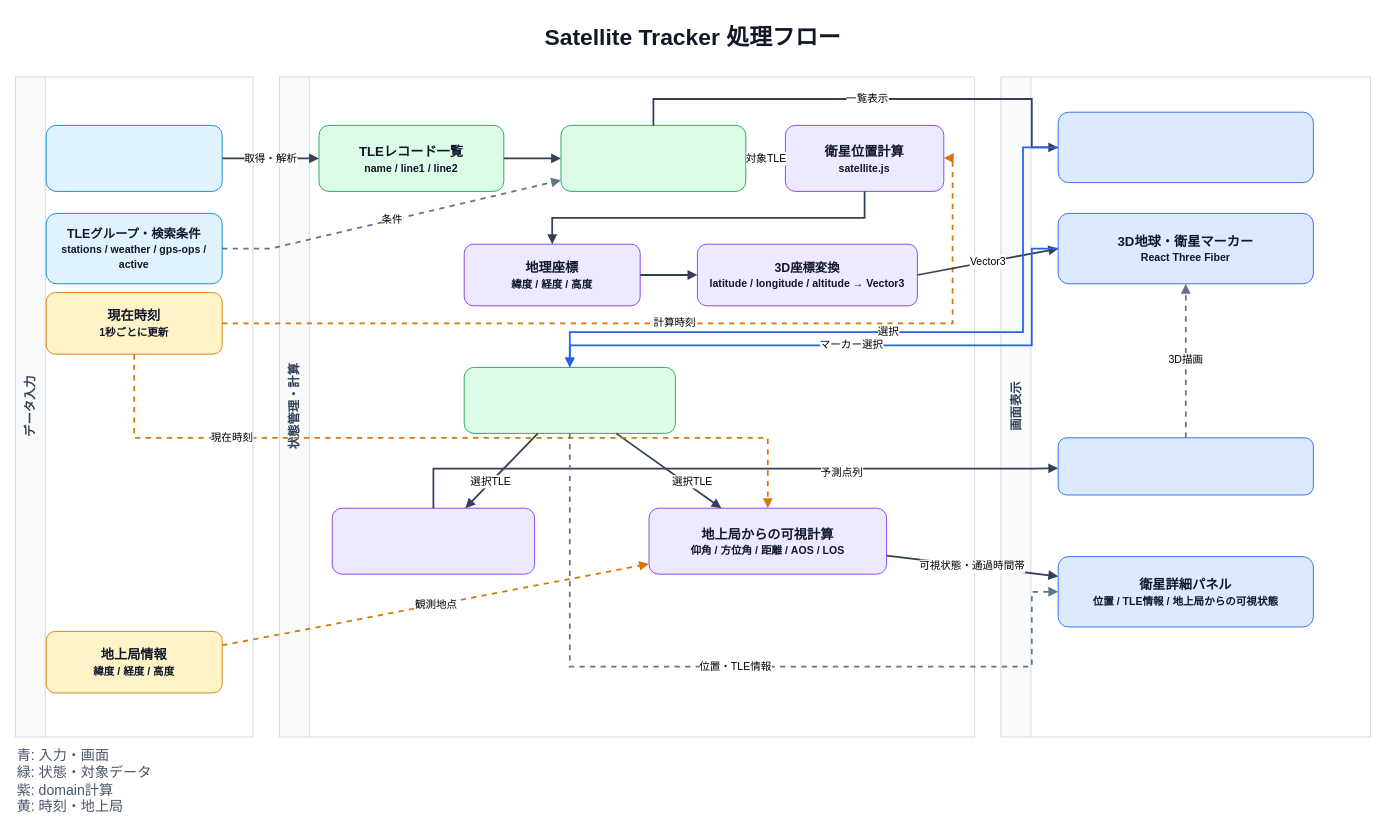
This 1386x831 diagram has some shape labels left out. Each missing label, with the centre of its shape:
"TLEデータソース Mock / Backend API / CelesTrak" goes at point (133, 158).
"予測軌道ライン" goes at point (1185, 466).
"検索・表示件数制限 計算・描画対象を絞る" goes at point (653, 158).
"衛星一覧 グループ選択 / 検索 / 衛星選択" goes at point (1185, 147).
"衛星選択状態 一覧またはマーカーをクリック" goes at point (569, 400).
"軌道予測 未来時刻の衛星位置を計算" goes at point (433, 540).
